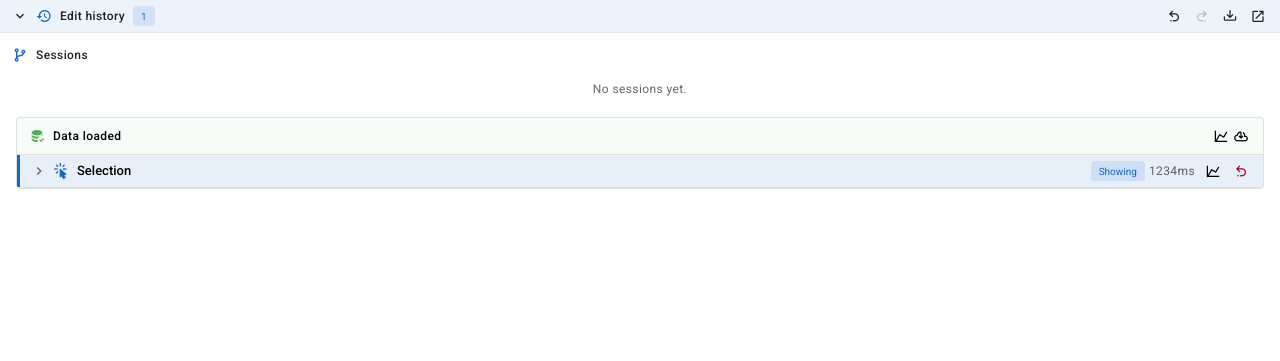
Test: EditHistory.vue actions › execution telemetry placement › shows the mode chip in the expanded drawer
The image size is (1280, 361).
Step 1. Click the button with class "edit-history__expand" → [39, 171], box left=29, top=161, right=49, bottom=181
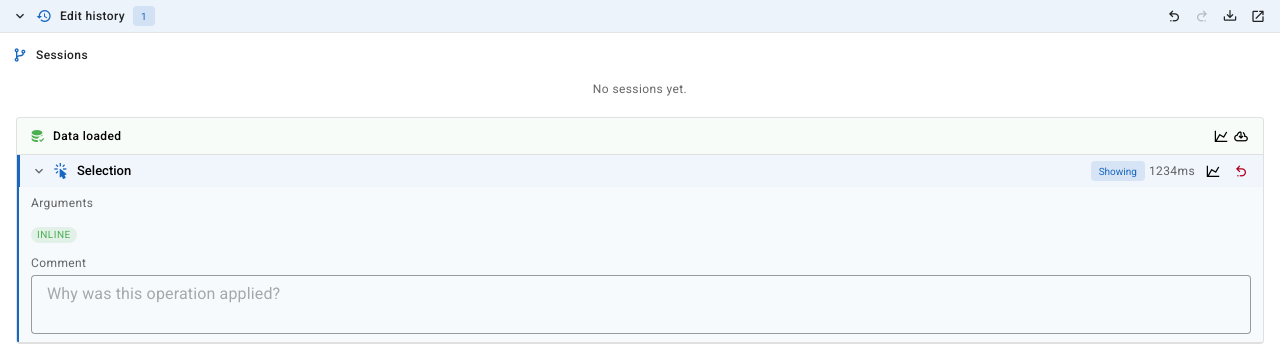
Now the element with test id "history-execution-0" is shown, box left=31, top=227, right=77, bottom=243
Now the element with test id "history-execution-0" reads "inline", box left=37, top=229, right=71, bottom=240
